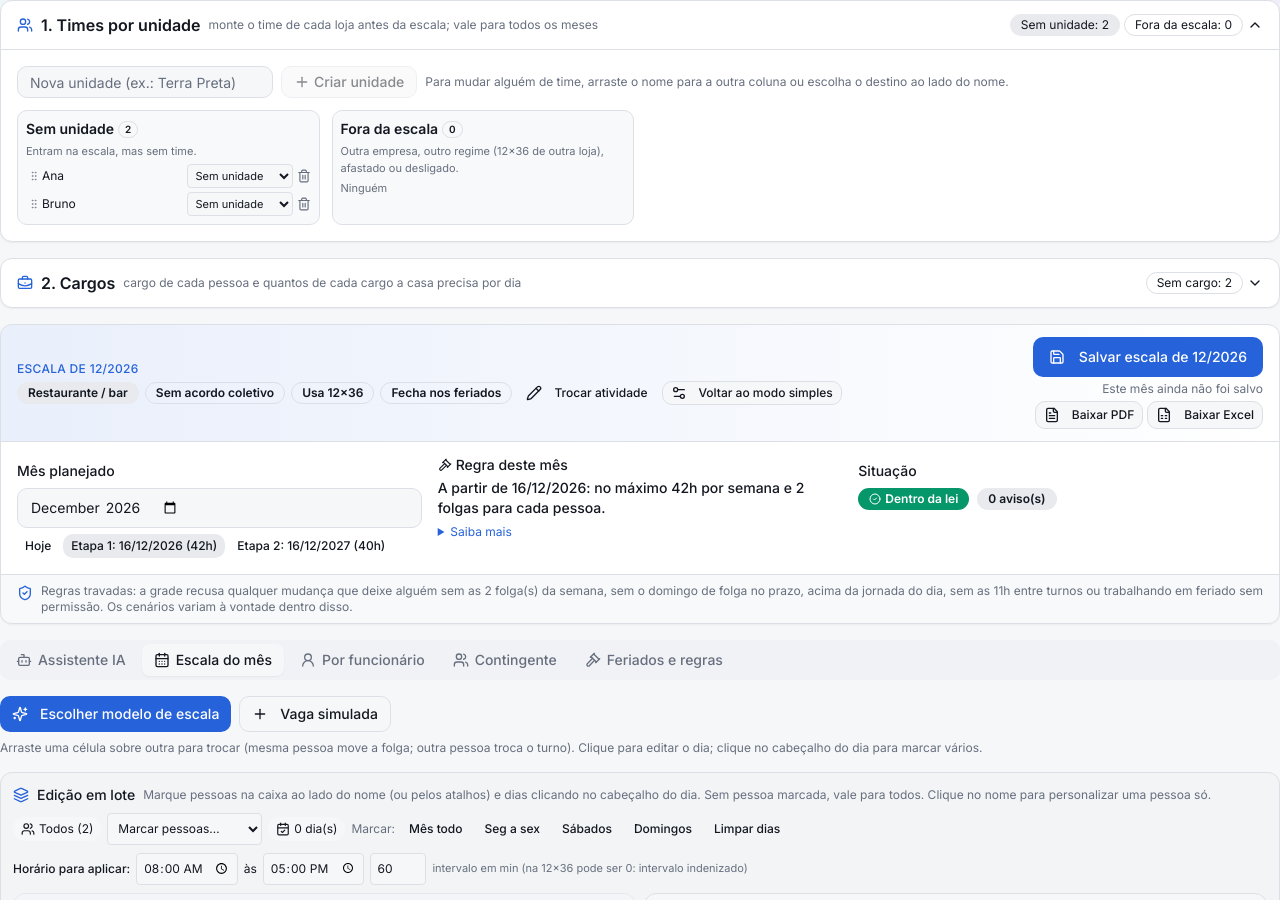
it: 12x36, lote e caixa do funcionário › clicar no nome abre a caixa e aplica horário só nos dias da semana escolhidos
Press the mouse on the tab "Escala do mês" at (213, 660), box left=142, top=644, right=284, bottom=676
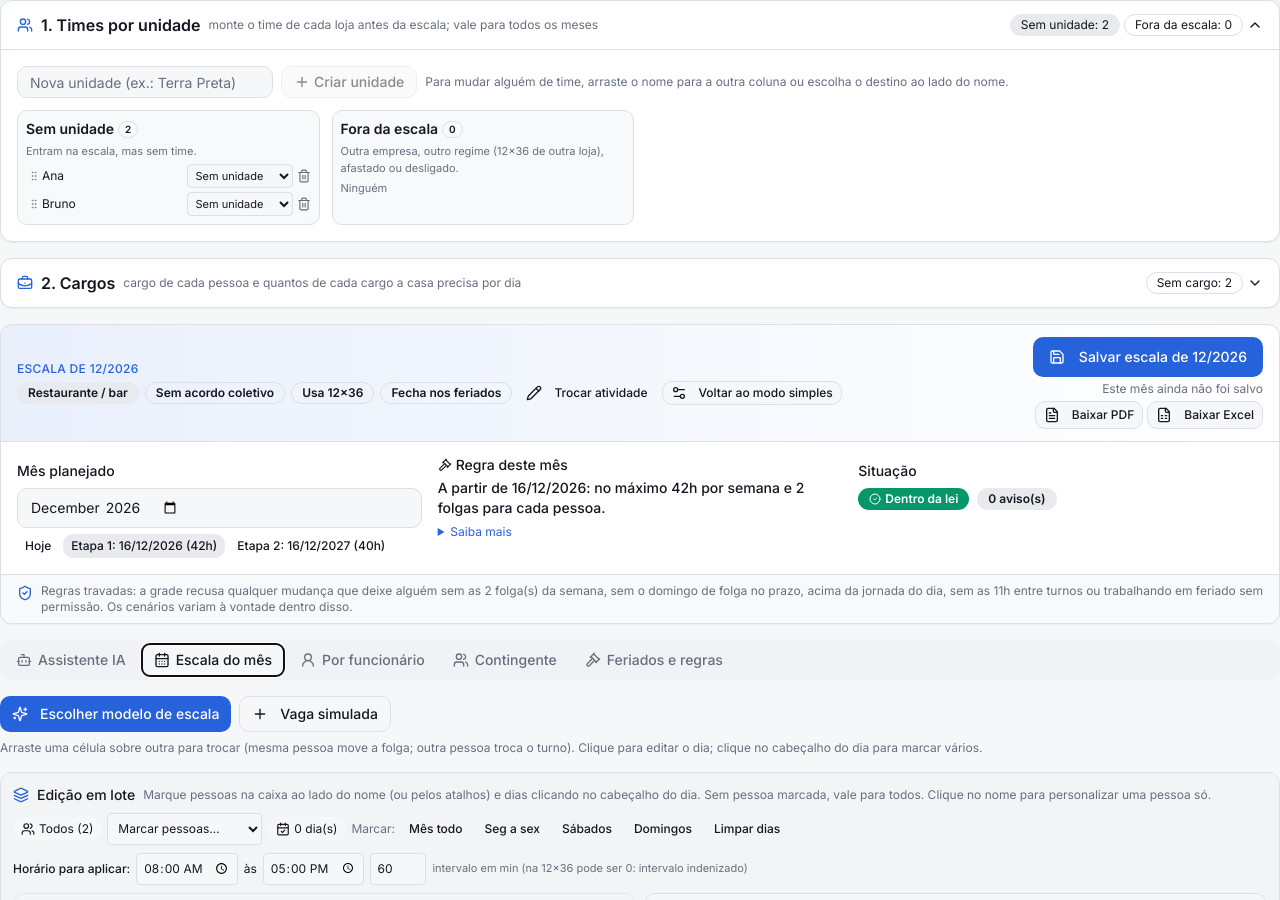
Click the tab "Escala do mês" at (213, 660), box left=142, top=644, right=284, bottom=676
(page scrolled)
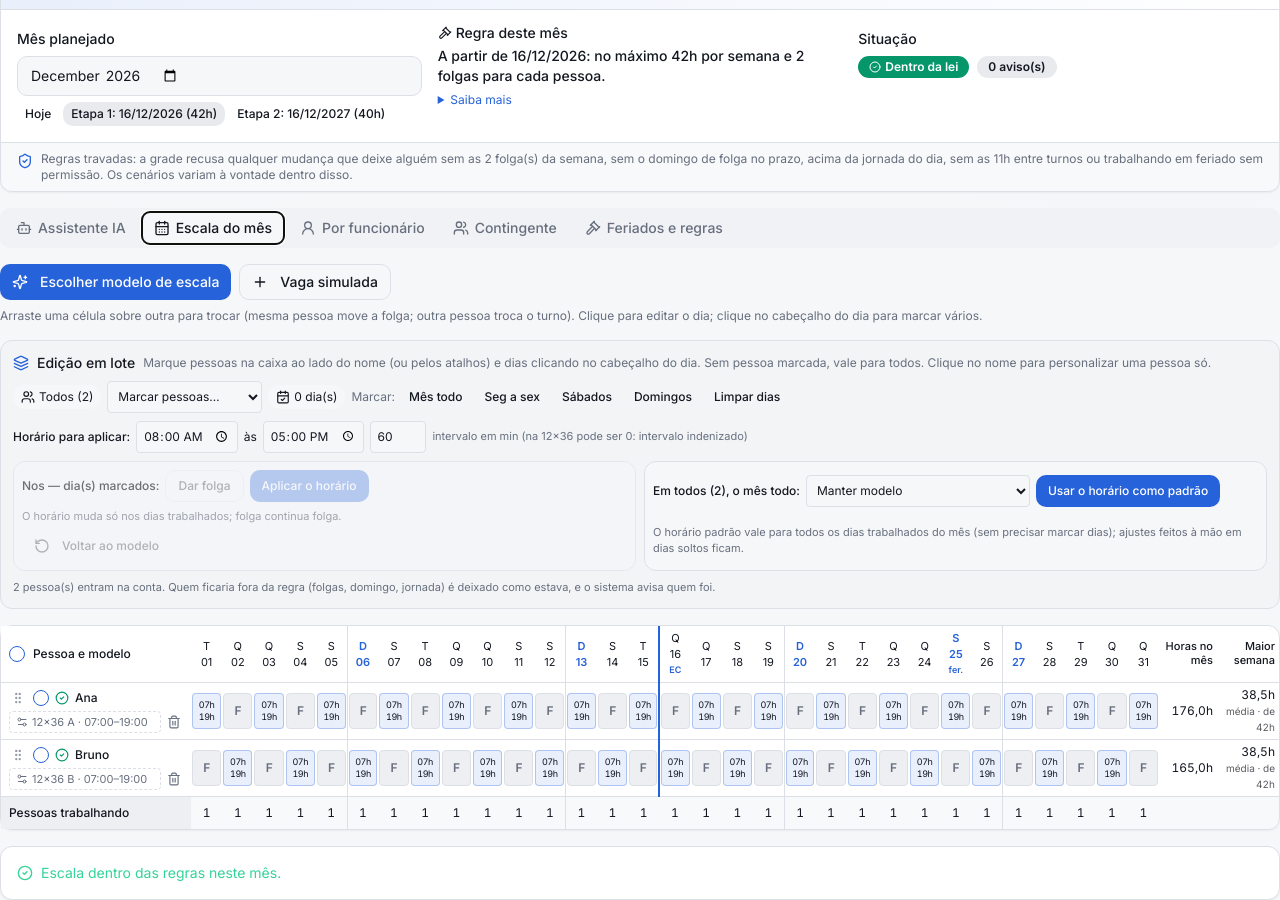
Expected: the text "Edição em lote" is shown, left=37, top=352, right=135, bottom=372
Click the button "Ana" at (129, 698), box left=75, top=690, right=183, bottom=706
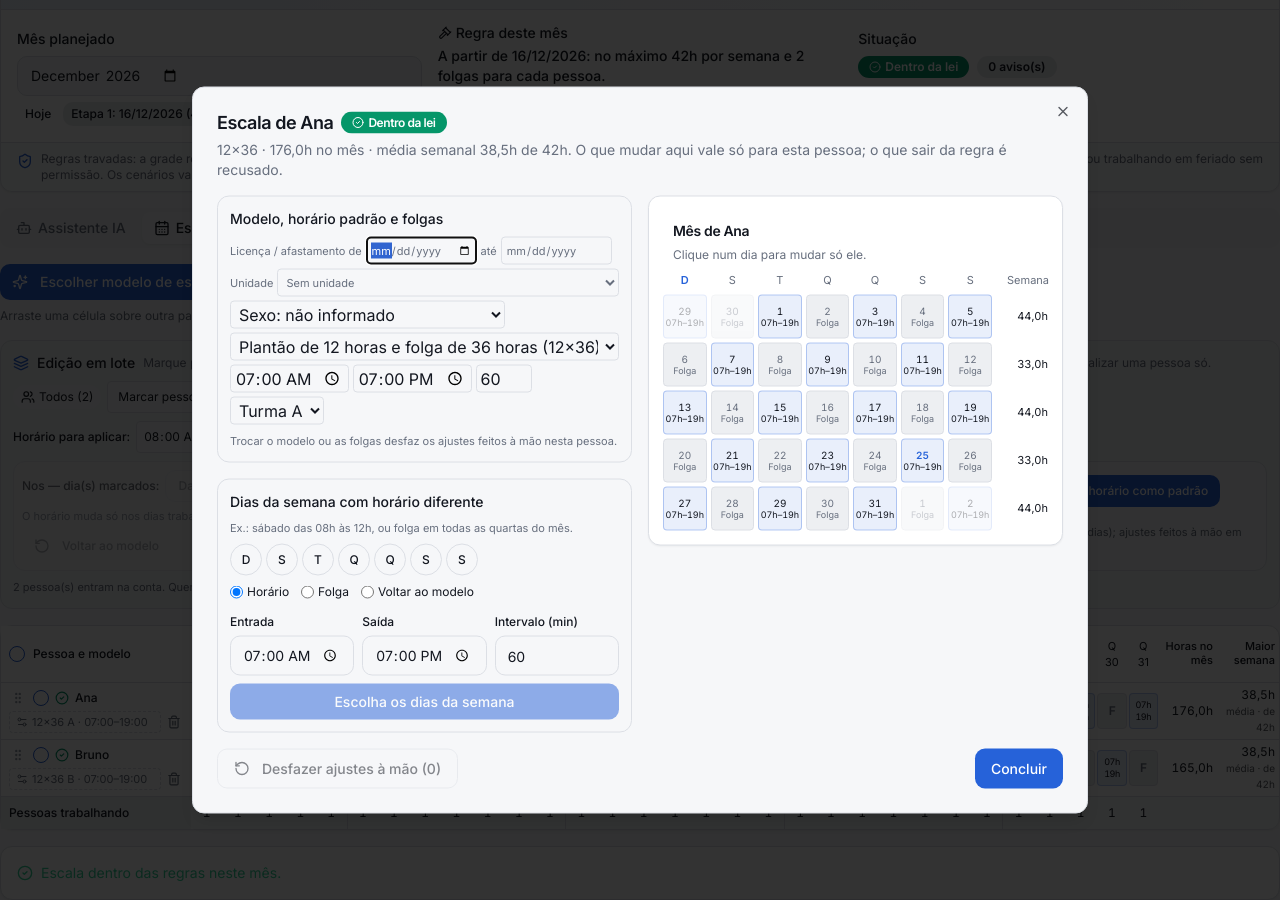
Now the dialog is shown, box left=192, top=86, right=1088, bottom=814
Now the heading "Escala de Ana Dentro da lei" is shown, box left=217, top=112, right=446, bottom=134
Click the button named "Sábado" at (462, 560), box left=446, top=544, right=478, bottom=576
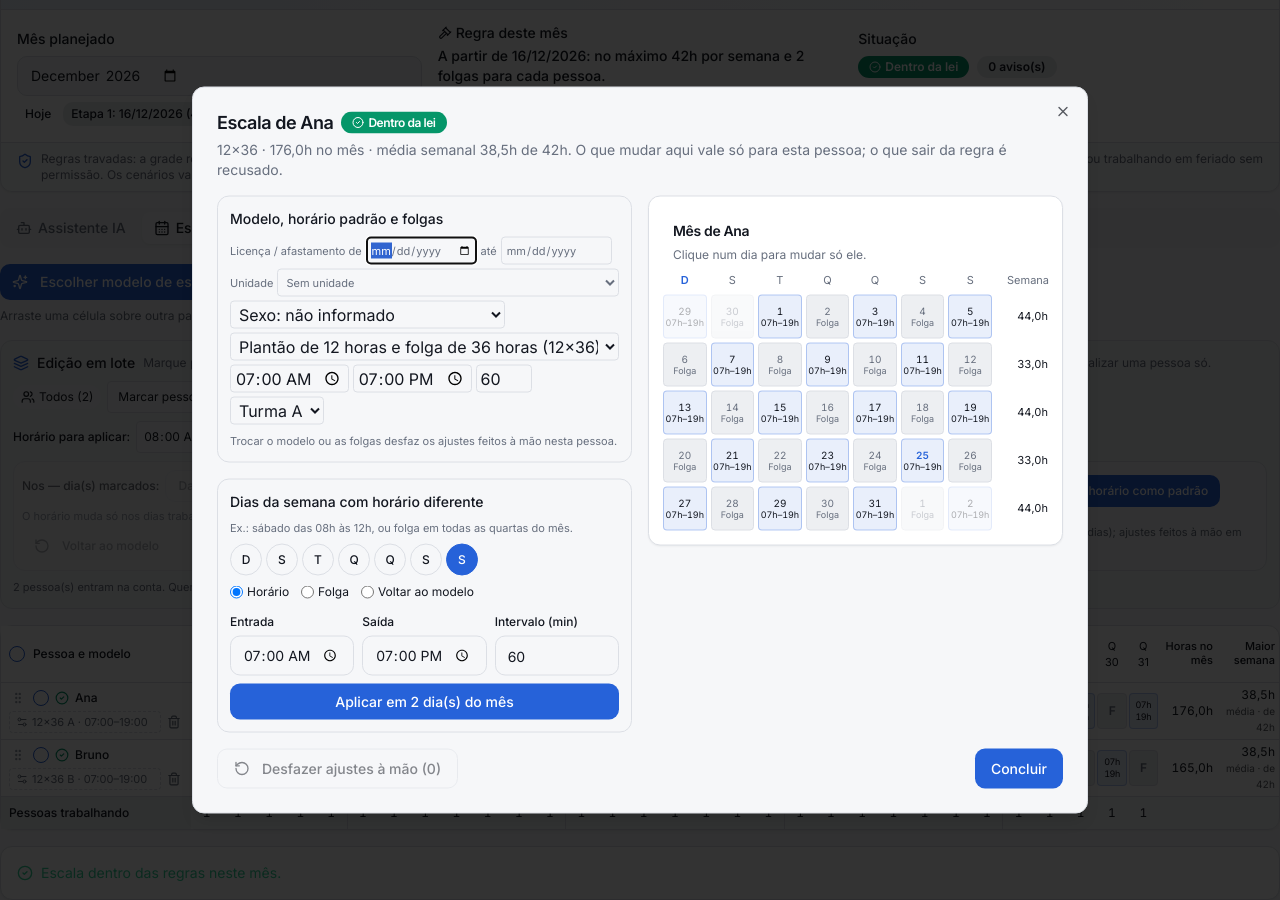
Replace the text in the time field named "Entrada dos dias da semana" with "08:00" at (292, 656), box left=230, top=636, right=354, bottom=676
Replace the text in the time field named "Saída dos dias da semana" with "14:00" at (424, 656), box left=362, top=636, right=487, bottom=676
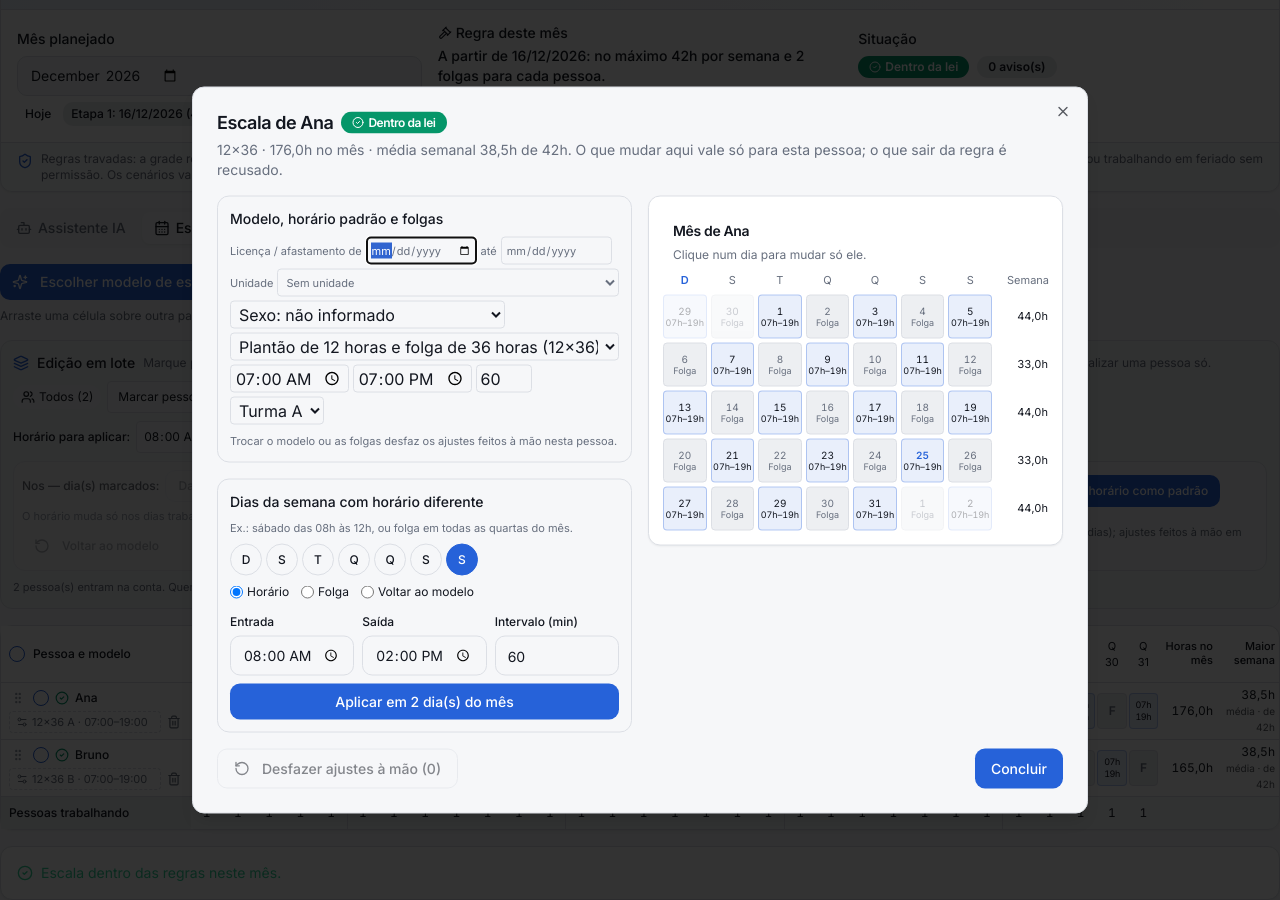
Click the button "Aplicar em 2 dia(s) do mês" at (424, 702), box left=230, top=684, right=619, bottom=720
(page scrolled)
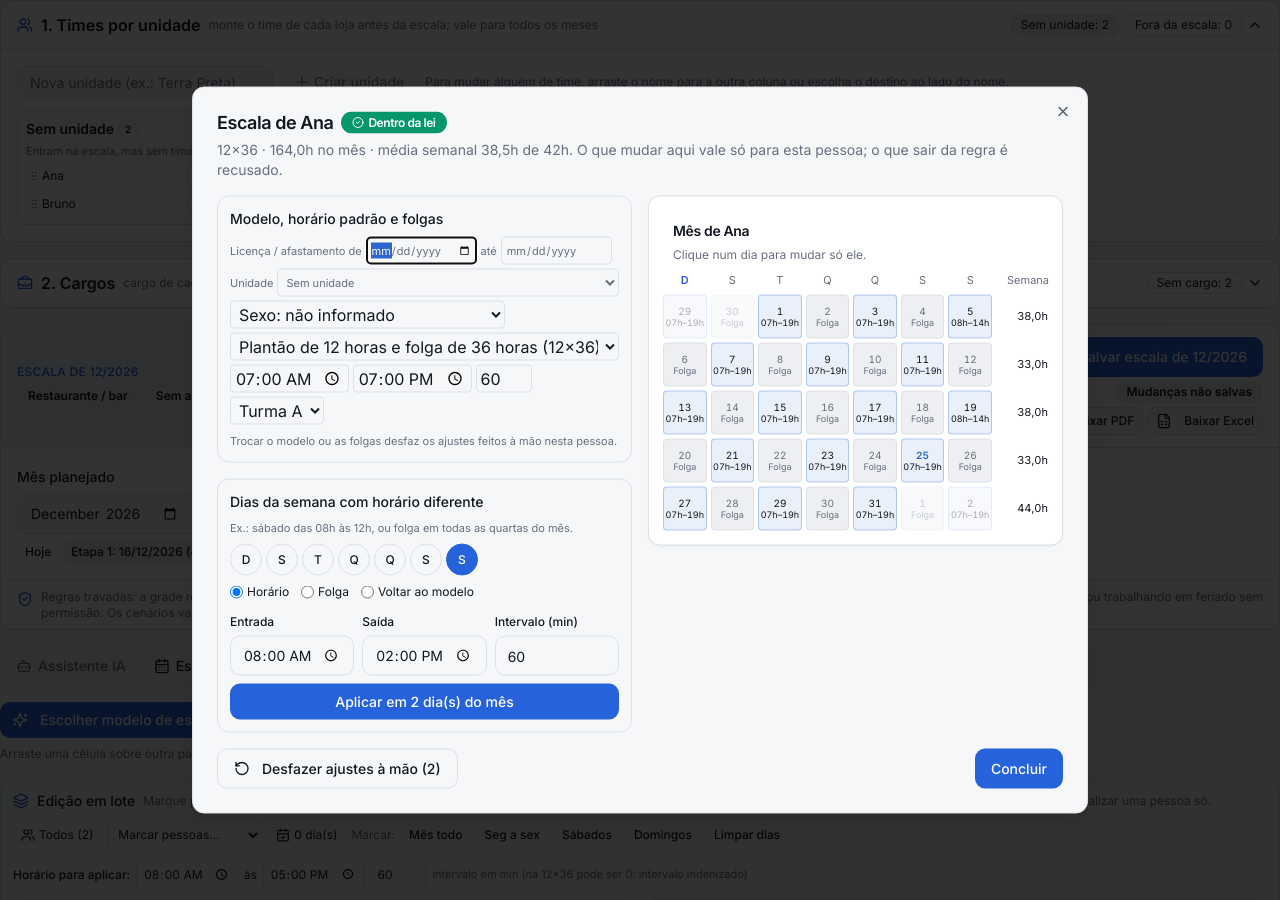
Now the 1st text "08h–14h" is shown, box left=951, top=317, right=989, bottom=328
Now the button "Desfazer ajustes à mão (2)" is shown, box left=217, top=748, right=458, bottom=788
Now the text "Mudanças não salvas" is shown, box left=1116, top=380, right=1263, bottom=402
